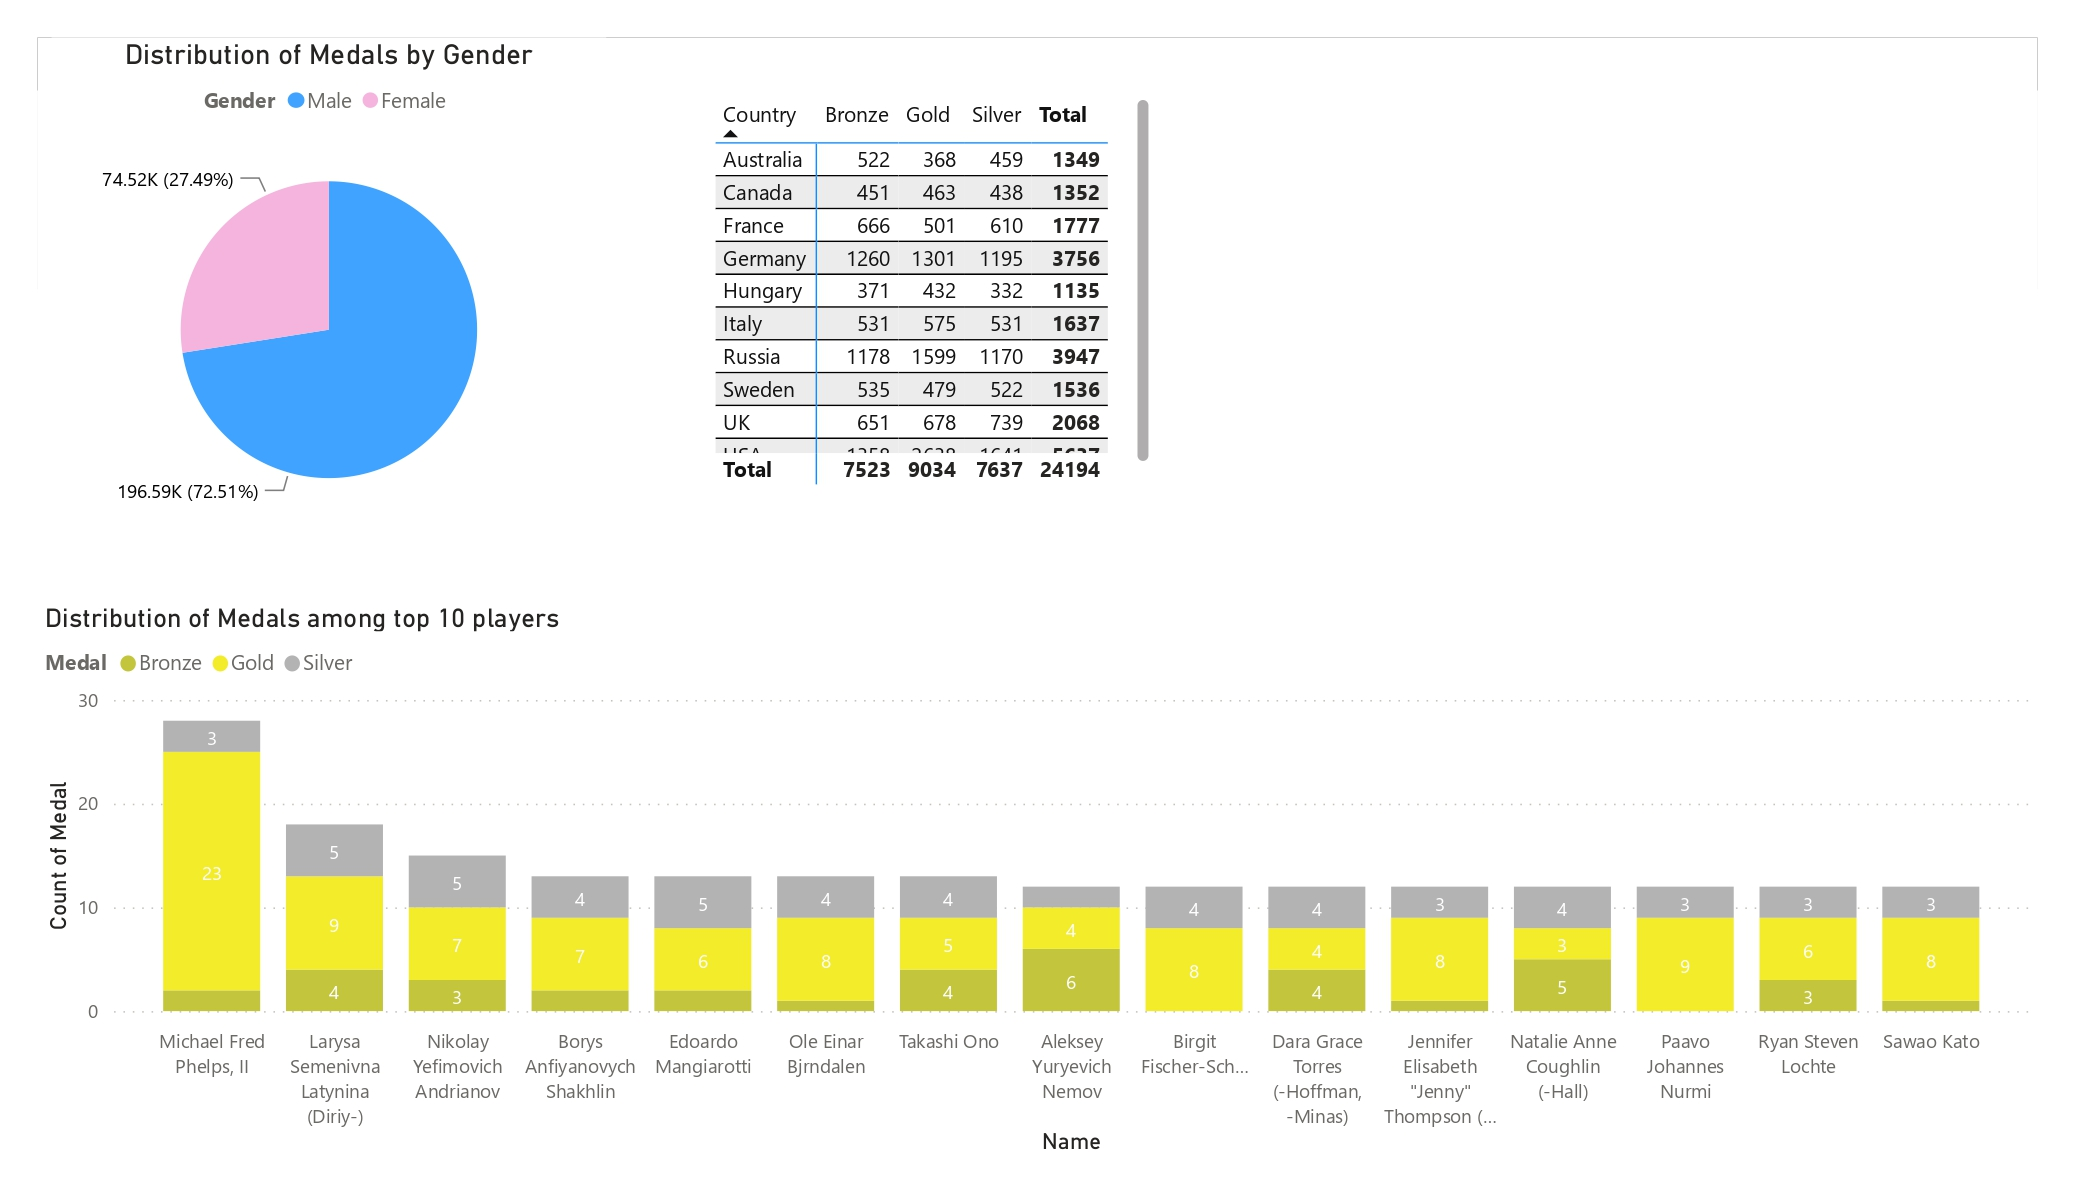

The dashboard page shown, as its layout file describes it:
{"tool":"powerbi","page":{"name":"Page 1","canvas":[1280,720],"ordinal":0},"visuals":[{"type":"pieChart","title":"Distribution of Medals by Gender","fields":{"Category":["Olympics Final.Gender"],"Y":["Olympics Final.Medal"]},"box":[9.4,0,354.9,324.7],"z":0},{"type":"pivotTable","fields":{"Rows":["Olympics Final.Country"],"Columns":["Olympics Final.Medal"],"Values":["Olympics Final.Medal"]},"box":[428.6,34,288.8,256.8],"z":1000},{"type":"columnChart","title":"Distribution of Medals among top 10 players","fields":{"Category":["Olympics Final.Name"],"Y":["Olympics Final.Medal"],"Series":["Olympics Final.Medal"]},"box":[0,360.6,1280,358.7],"z":2000}]}

Visuals, with their boxes on the page's 1280x720 design canvas (x1, y1, x2, y2). These are canvas units, not pixel positions in the 2075x1200 screenshot, which may show the page scaled, cropped or inside an application window:
"Distribution of Medals by Gender" pieChart: [9,0,364,325]
pivotTable - Olympics Final.Country x Olympics Final.Medal: [429,34,717,291]
"Distribution of Medals among top 10 players" columnChart: [0,361,1280,719]
